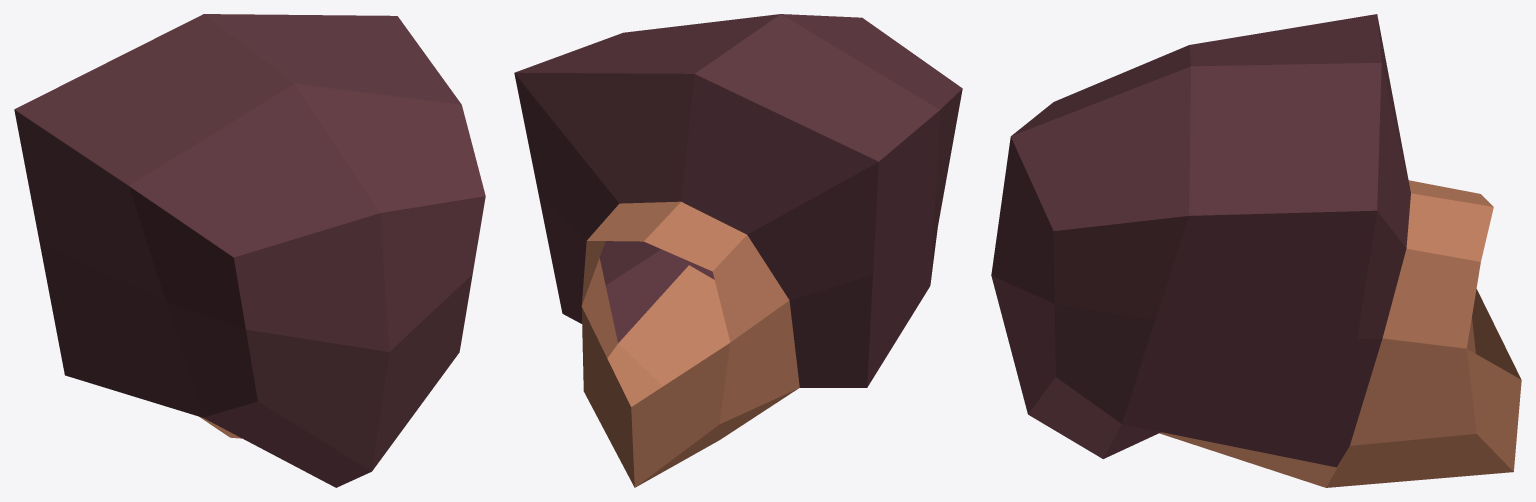
The model's file is head_egytp2.fbx.
3 views of the same model, side by side, from view 1: azimuth 30°, elevation 25°; view 2: azimuth 150°, elevation 25°; view 3: azimuth 270°, elevation 25° (orthographic). The views are drawn at different scales.
Parts seen in each view (by area): view 1: man-egypt-worker; view 2: man-egypt-worker; view 3: man-egypt-worker.
Part boxes in pixels (box(x1,y1,x2,y2)): man-egypt-worker: box(14, 14, 485, 487); man-egypt-worker: box(514, 14, 962, 487); man-egypt-worker: box(991, 14, 1521, 487).
Size of the model in its own units: 277 by 279 by 315.
